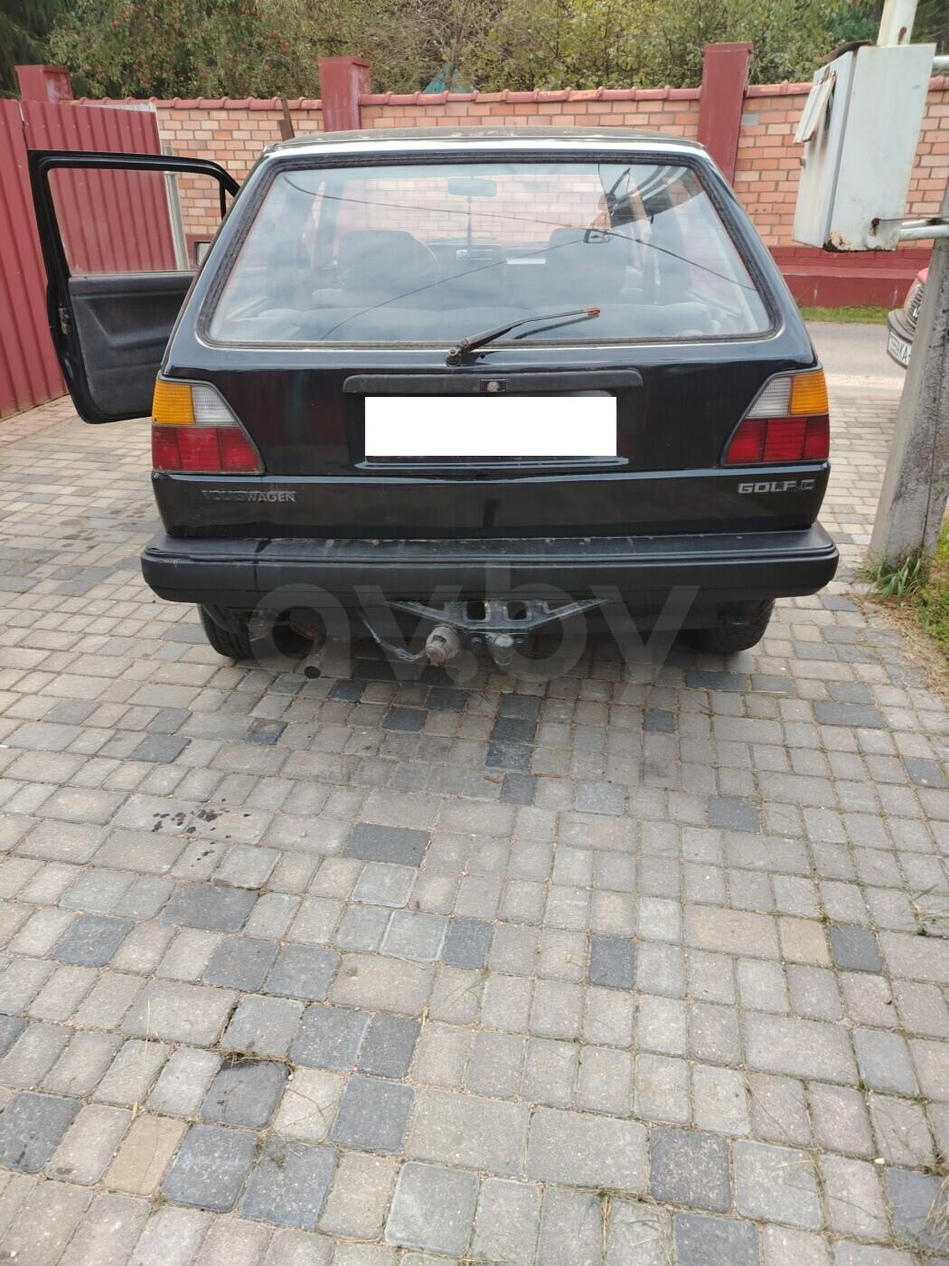Golf_1983-1992: (127, 128, 851, 682)
